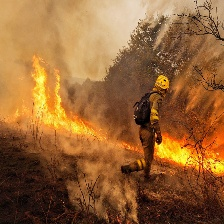fire: (15, 53, 104, 144), (152, 131, 224, 174)
smoke: (1, 1, 220, 102)
